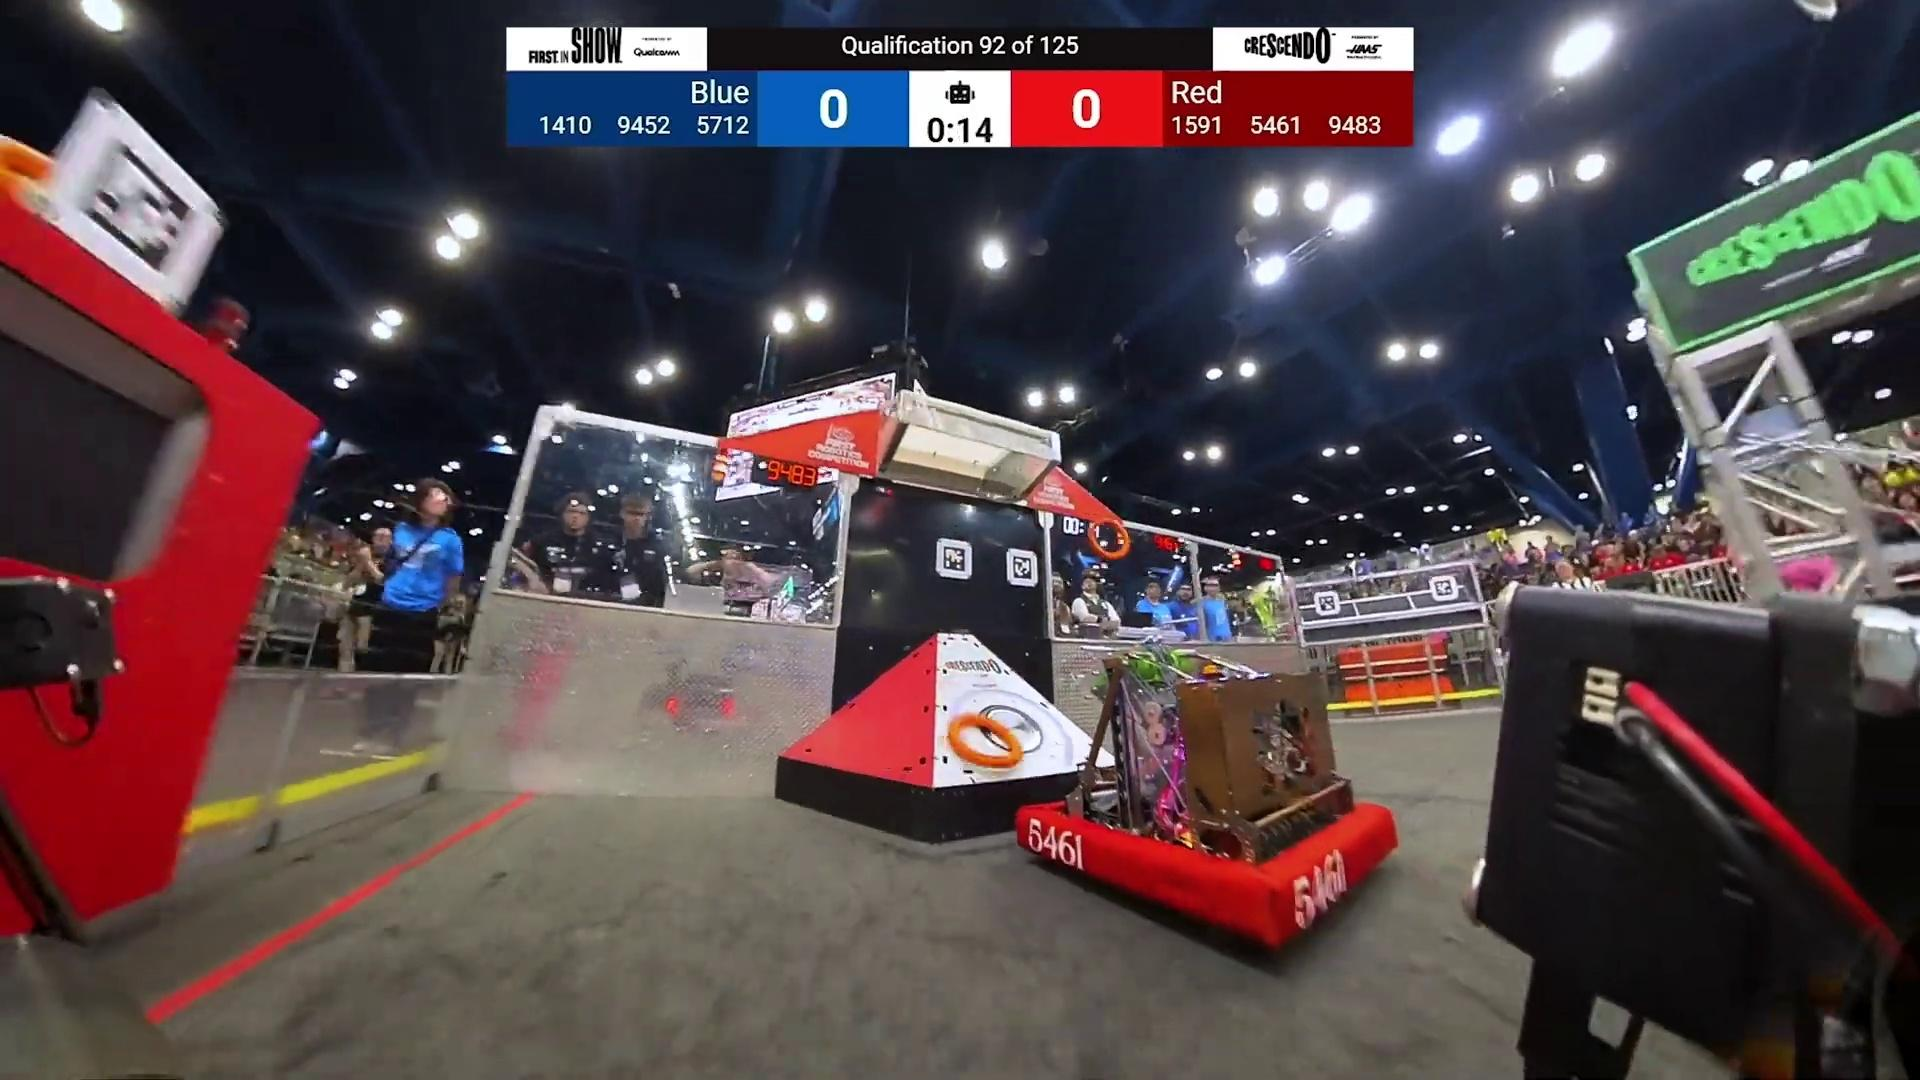robot: (1015, 638, 1398, 959)
